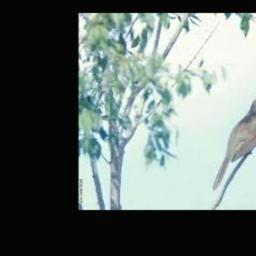Cuckoo: (213, 97, 256, 191)
